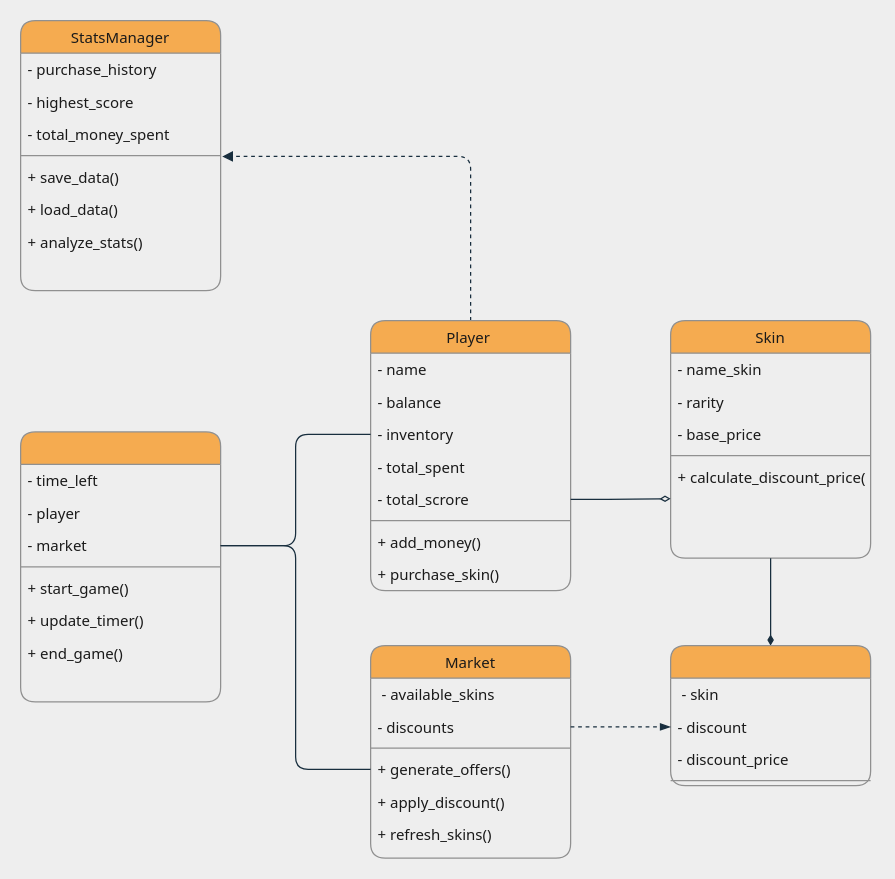
The diagram is 895 pixels wide and 879 high, and some of its shapes have lost their labels. The box of each missing label's shape, as (x1, y1, x2, y2) in pixels:
GameManager: (19, 431, 221, 702)
Offer: (669, 644, 871, 786)
